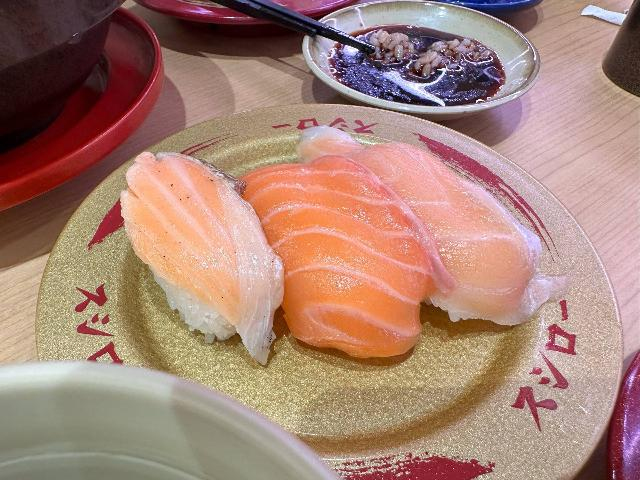jangold: (268, 358, 600, 480), (520, 170, 621, 480), (20, 259, 138, 367), (157, 105, 497, 135)
